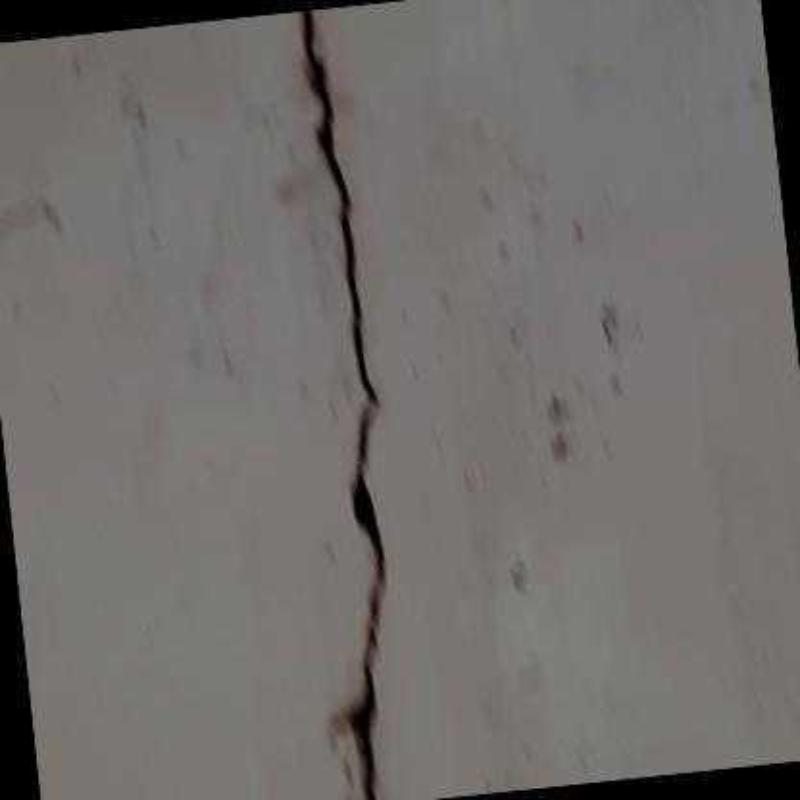pothole: (300, 7, 386, 800)
